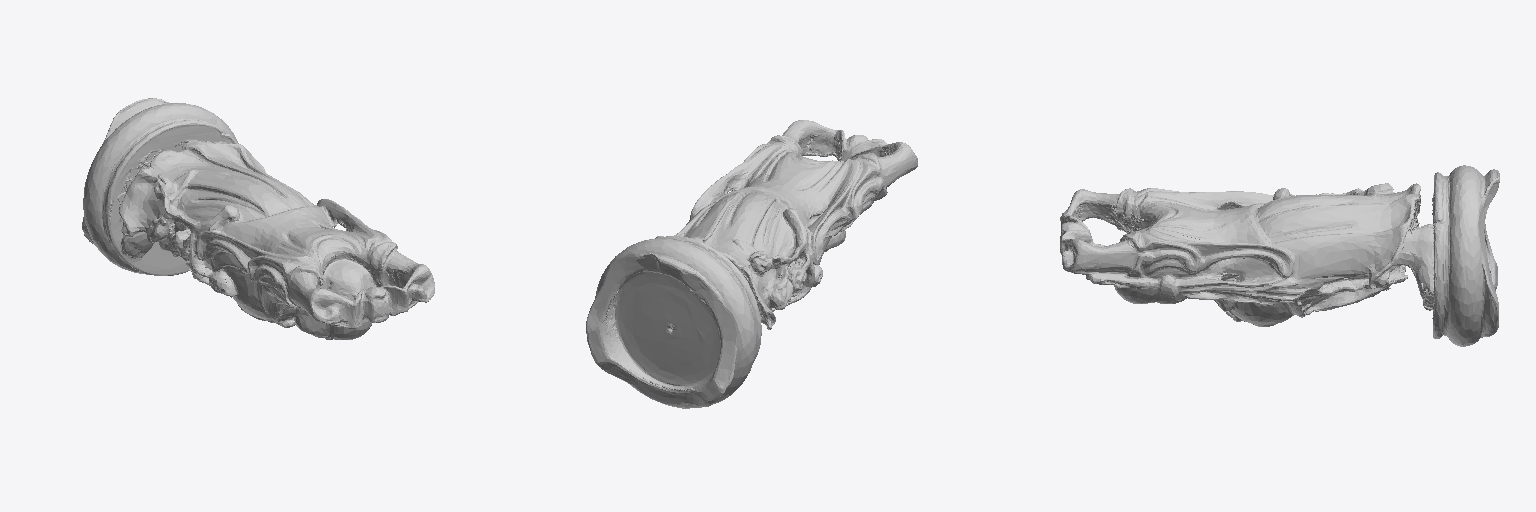
The model's file is buddha.obj.
3 renders of one model, left to right at view 1: azimuth 30°, elevation 25°; view 2: azimuth 150°, elevation 25°; view 3: azimuth 270°, elevation 25°, orthographic.
Size of the model in its own units: 0.8223 by 0.8231 by 2.